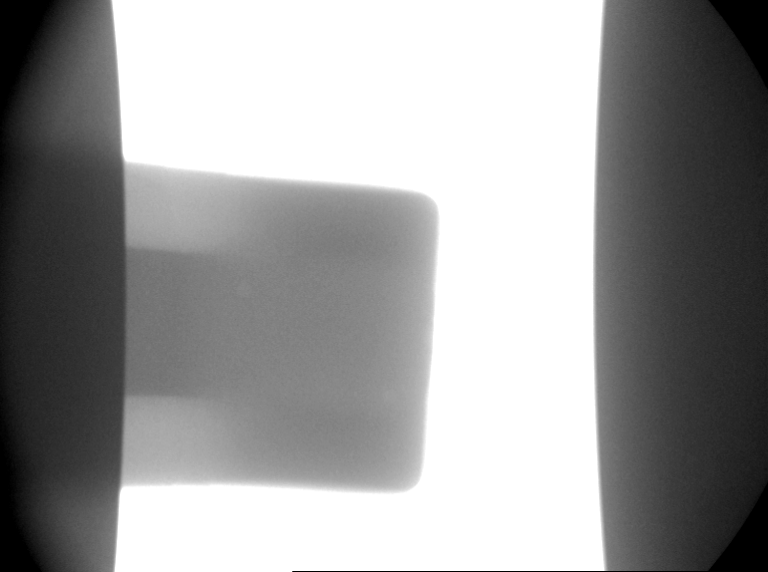defect: (233, 274, 259, 299)
